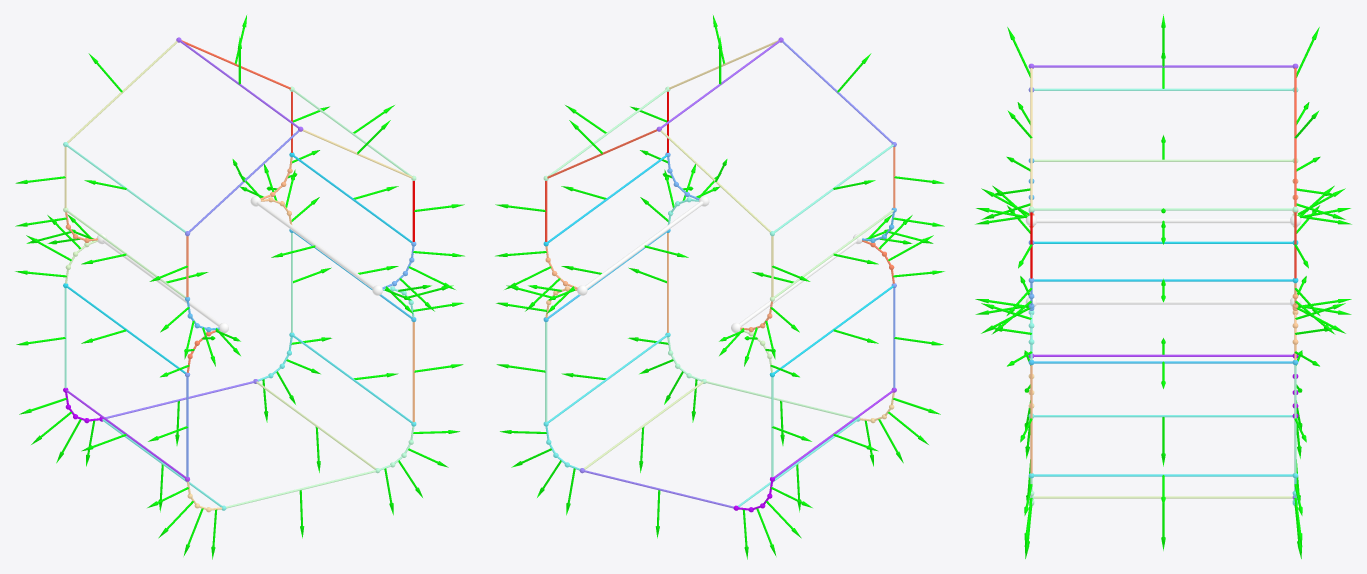
Rendered from onshape_house.gltf.
3 renders of one model, left to right at view 1: azimuth 30°, elevation 25°; view 2: azimuth 150°, elevation 25°; view 3: azimuth 270°, elevation 25°, orthographic. The views are drawn at different scales.
Bounding box in the file's own units: 0.6888 × 0.9436 × 0.6528.
